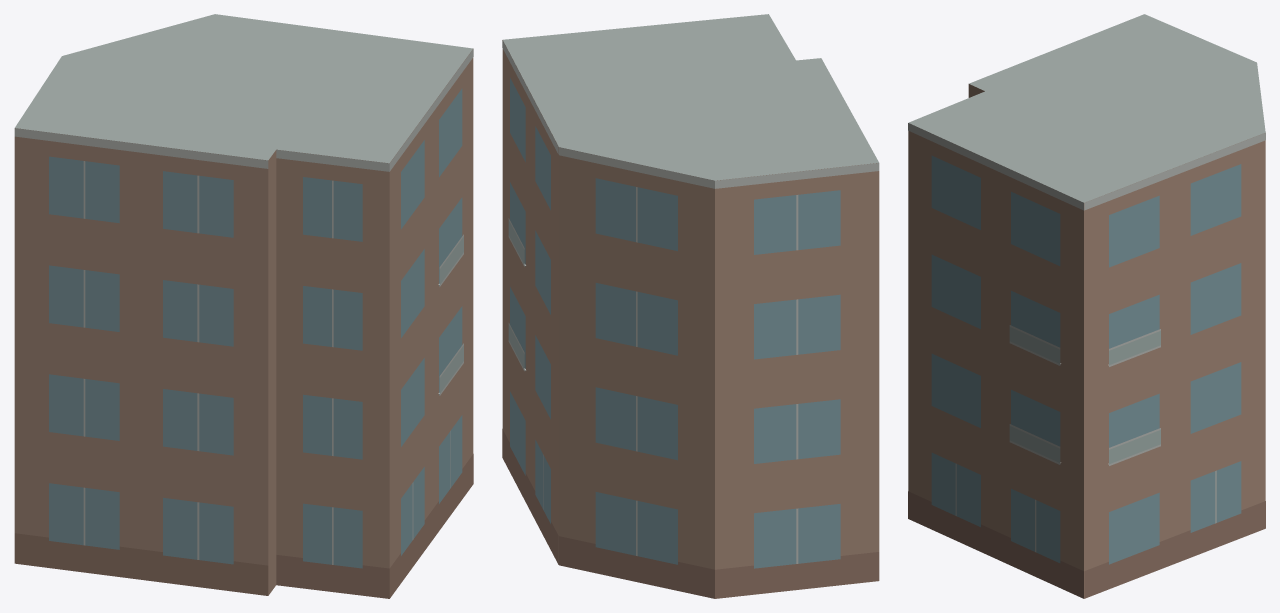
Rendered from survey-upis-32722310.glb.
The picture shows the model from 3 angles, left to right: view 1: azimuth 30°, elevation 25°; view 2: azimuth 150°, elevation 25°; view 3: azimuth 270°, elevation 25°; orthographic projection. The views are drawn at different scales.
Visible parts, largest first — view 1: survey-upis-32722310.tmp; view 2: survey-upis-32722310.tmp; view 3: survey-upis-32722310.tmp.
Part boxes in pixels (x1,y1,x2,y2): survey-upis-32722310.tmp: [14, 14, 473, 598]; survey-upis-32722310.tmp: [502, 14, 879, 598]; survey-upis-32722310.tmp: [908, 14, 1265, 598].
Size of the model in its own units: 12.69 by 12.4 by 10.15.
